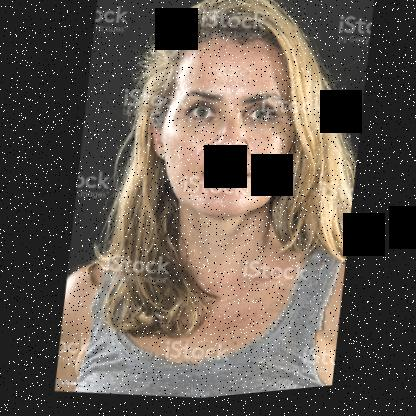Female: (135, 22, 312, 231)
